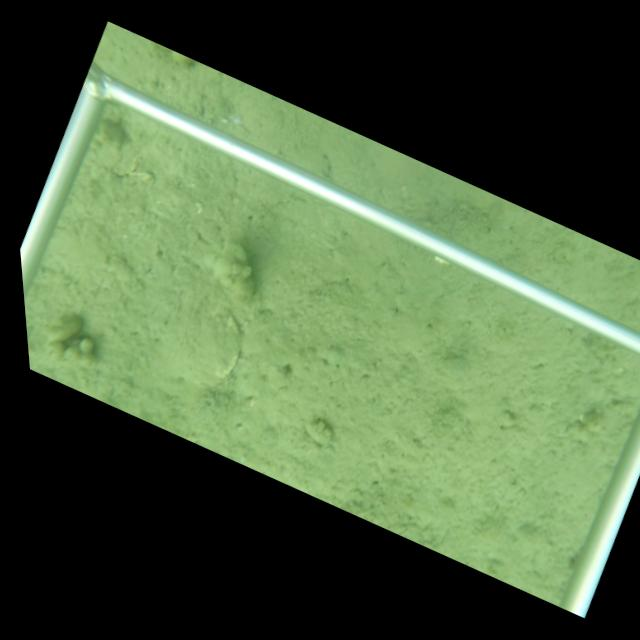Oyster-Indeterminate: (184, 306, 242, 394), (207, 237, 254, 308)
